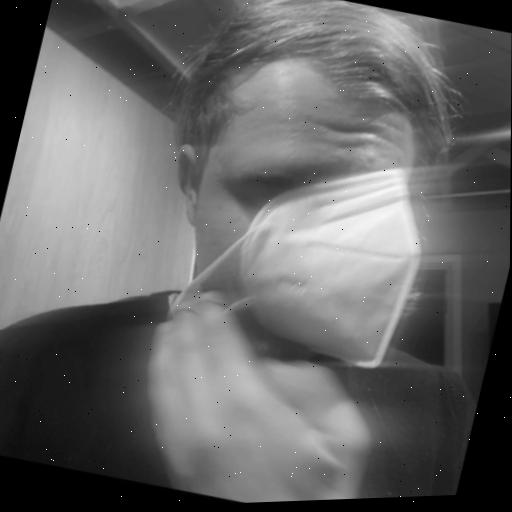mask: (128, 0, 495, 394)
